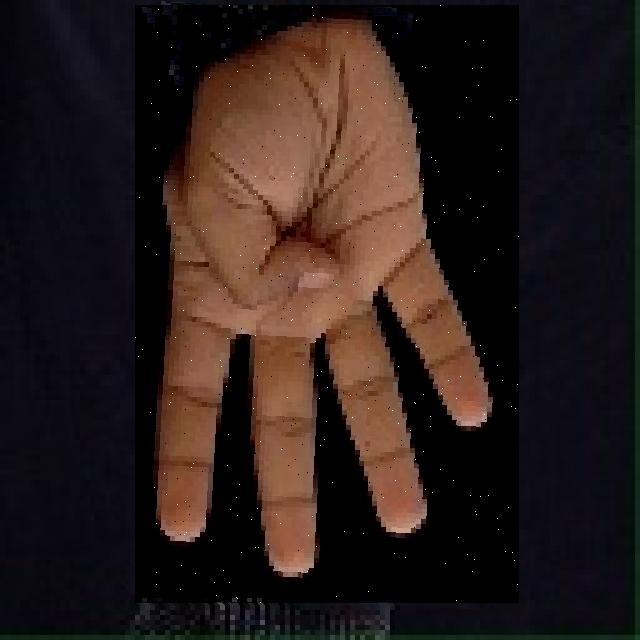Thanks: (136, 6, 522, 606)
